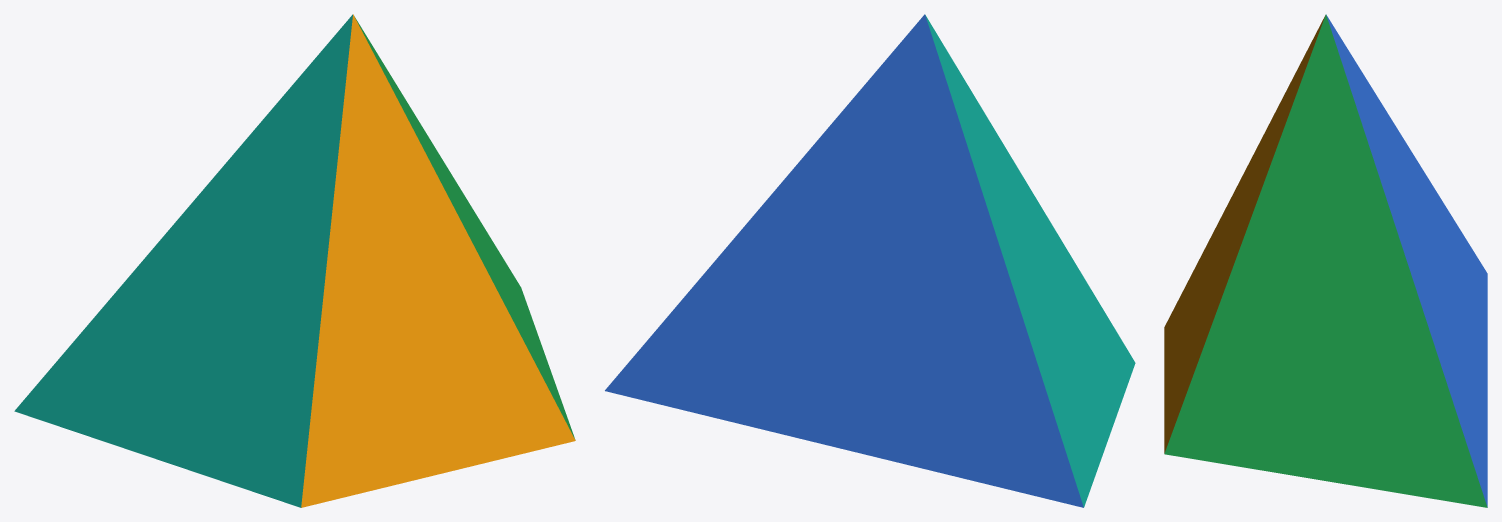
File: limas-trapesium.glb
3 views of the same model, side by side, from view 1: azimuth 30°, elevation 25°; view 2: azimuth 150°, elevation 25°; view 3: azimuth 270°, elevation 25° (orthographic). The views are drawn at different scales.
Parts seen in each view (by area): view 1: tegak4, tegak3, tegak2; view 2: tegak1, tegak4; view 3: tegak2, tegak1, tegak3.
Boxes of the visible parts, left/top/right/bottom form: tegak4: left=14, top=14, right=352, bottom=507; tegak3: left=301, top=14, right=575, bottom=507; tegak2: left=354, top=16, right=575, bottom=439; tegak1: left=605, top=14, right=1083, bottom=507; tegak4: left=925, top=15, right=1135, bottom=507; tegak2: left=1164, top=14, right=1487, bottom=507; tegak1: left=1326, top=14, right=1487, bottom=506; tegak3: left=1164, top=15, right=1325, bottom=453.
Bounding box in the file's own units: 2.4 × 1.8 × 1.4.
